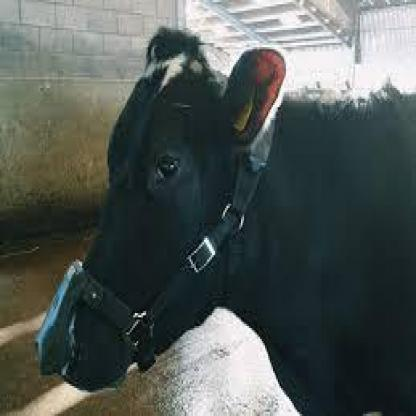cow: (32, 25, 416, 416)
